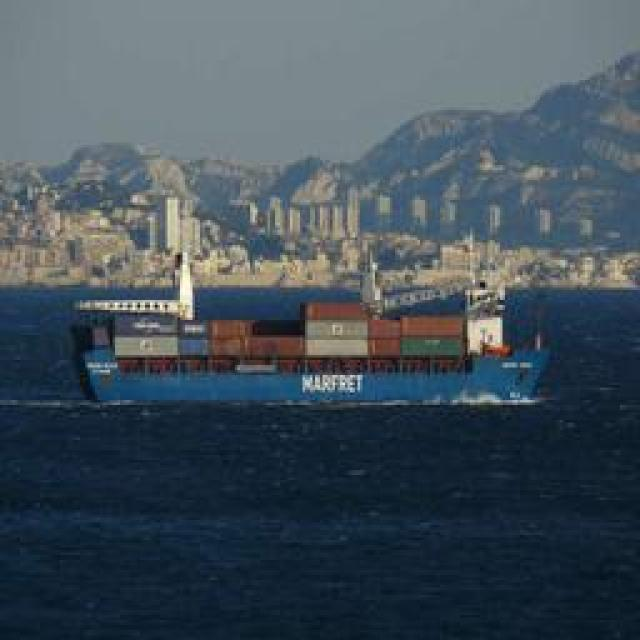CIV_Ship: (66, 308, 554, 404)
